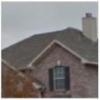chimneys: (83, 12, 98, 44)
